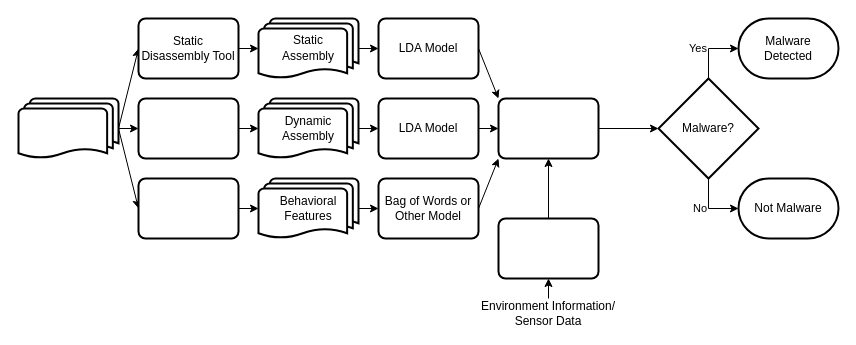
Some shapes in this 856 by 345 pixel diagram are drawn without their labels. The centre of each missing label's shape, as x and y in pixels:
"Behavioral Analysis Tool" belongs at (188,208).
"Binary Files" belongs at (68,128).
"Dynamic Assembly Trace Tool" belongs at (188,128).
"Ensemble Classifier" belongs at (548,128).
"Environmental Context Model (Context Bit)" belongs at (548,248).
